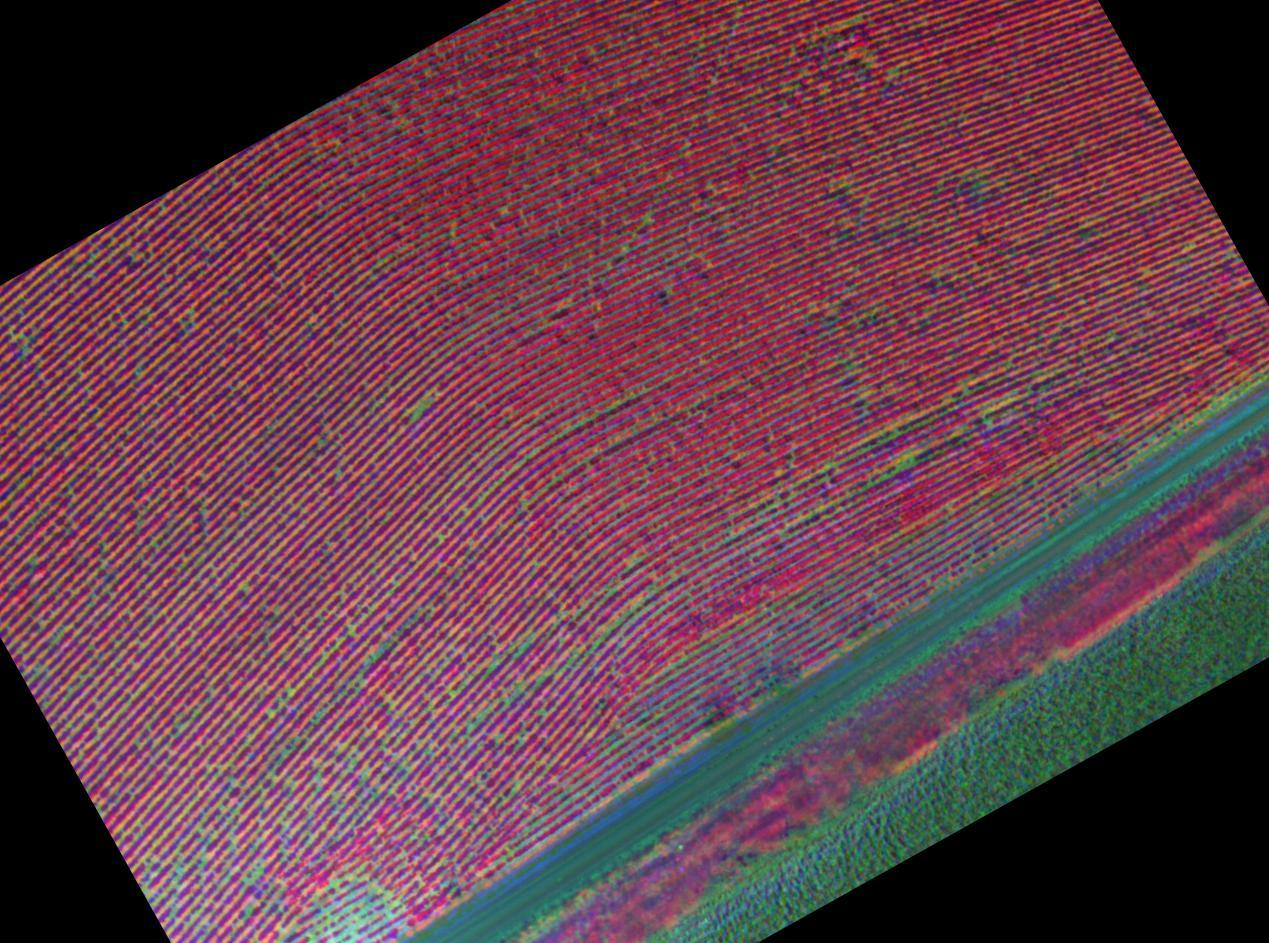dc: (371, 888, 378, 896), (418, 405, 424, 411), (243, 585, 248, 590), (256, 870, 261, 874)
